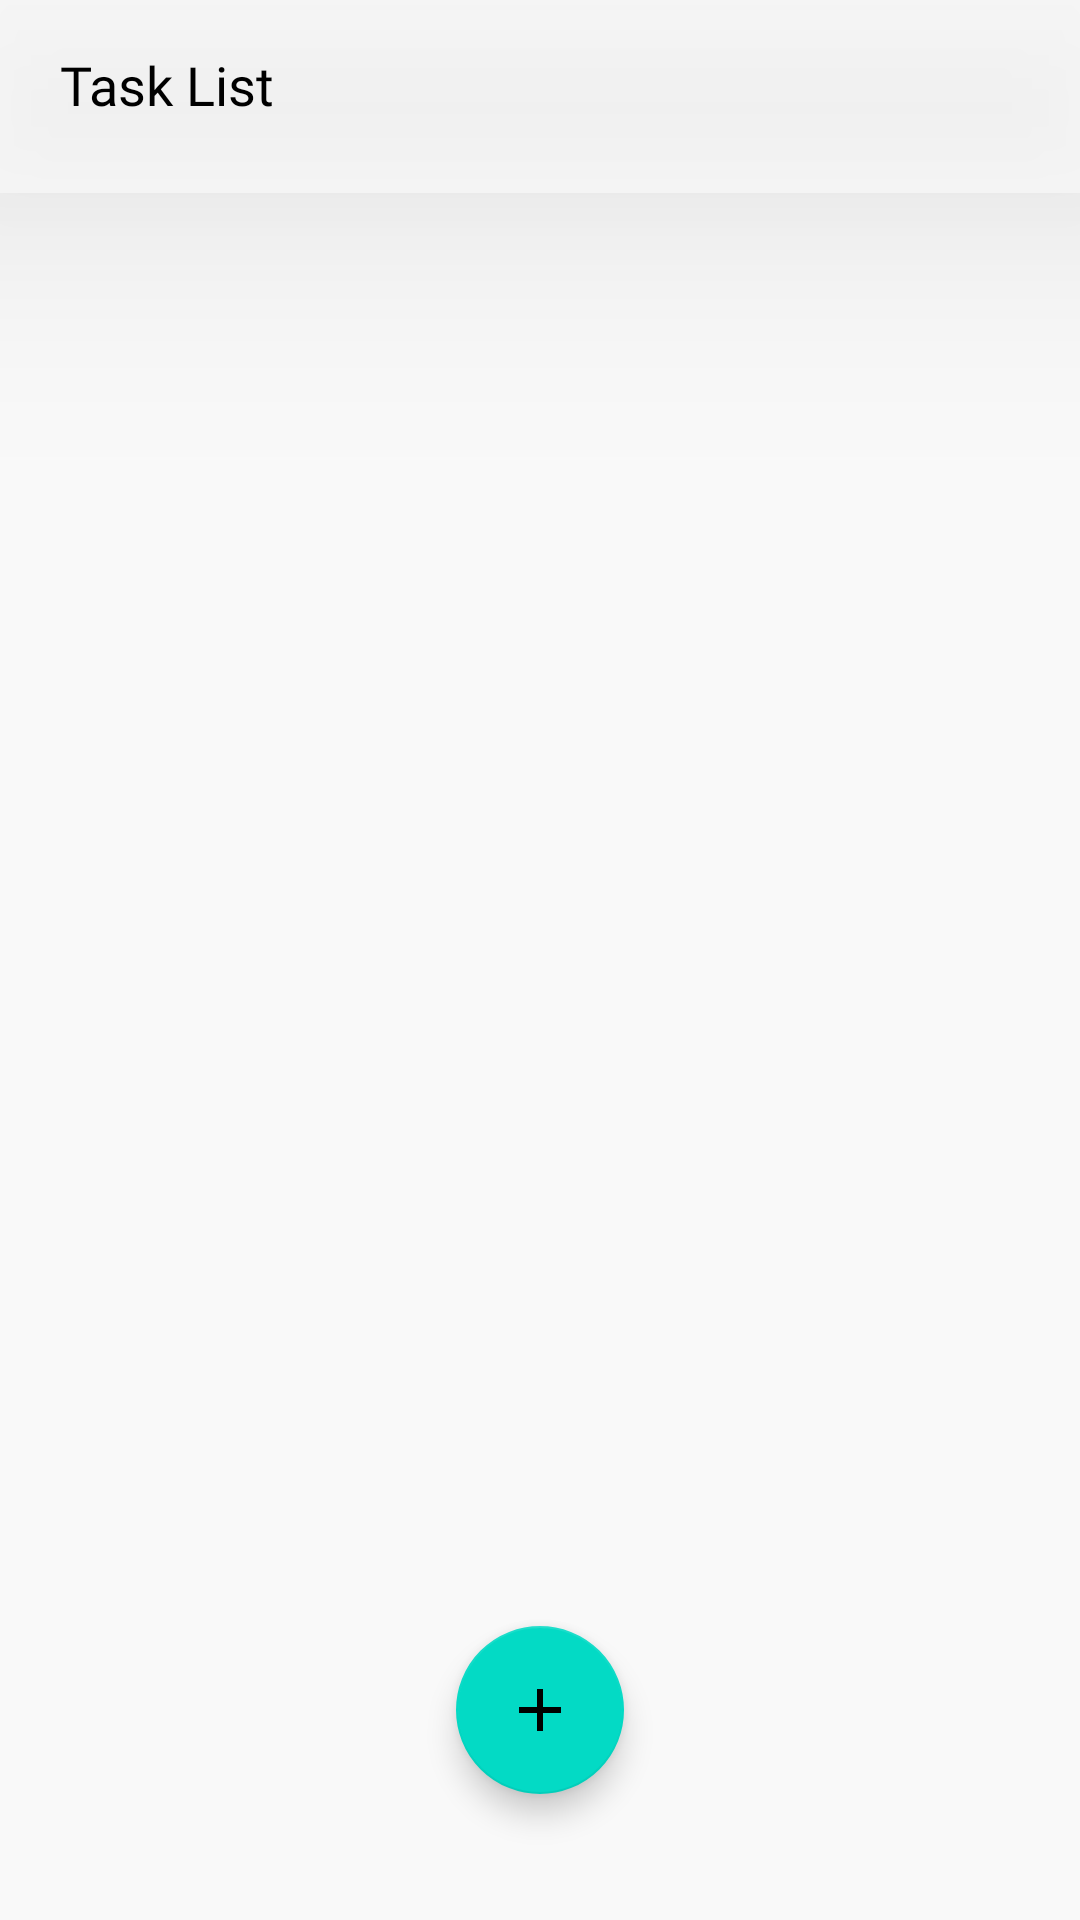

Named icons in this screenshot (1080 × 1920) and their bounding boxes, (x1, y1, x2, y2):
Add a Note: (456, 1626, 624, 1794)
